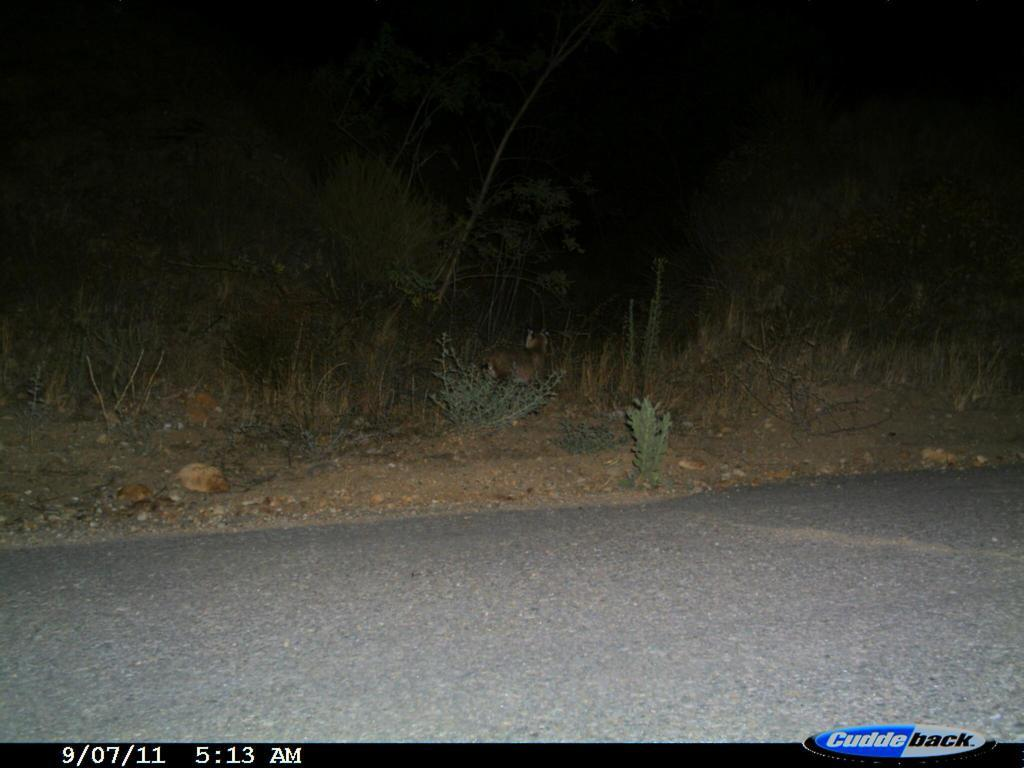bobcat: (470, 322, 560, 393)
